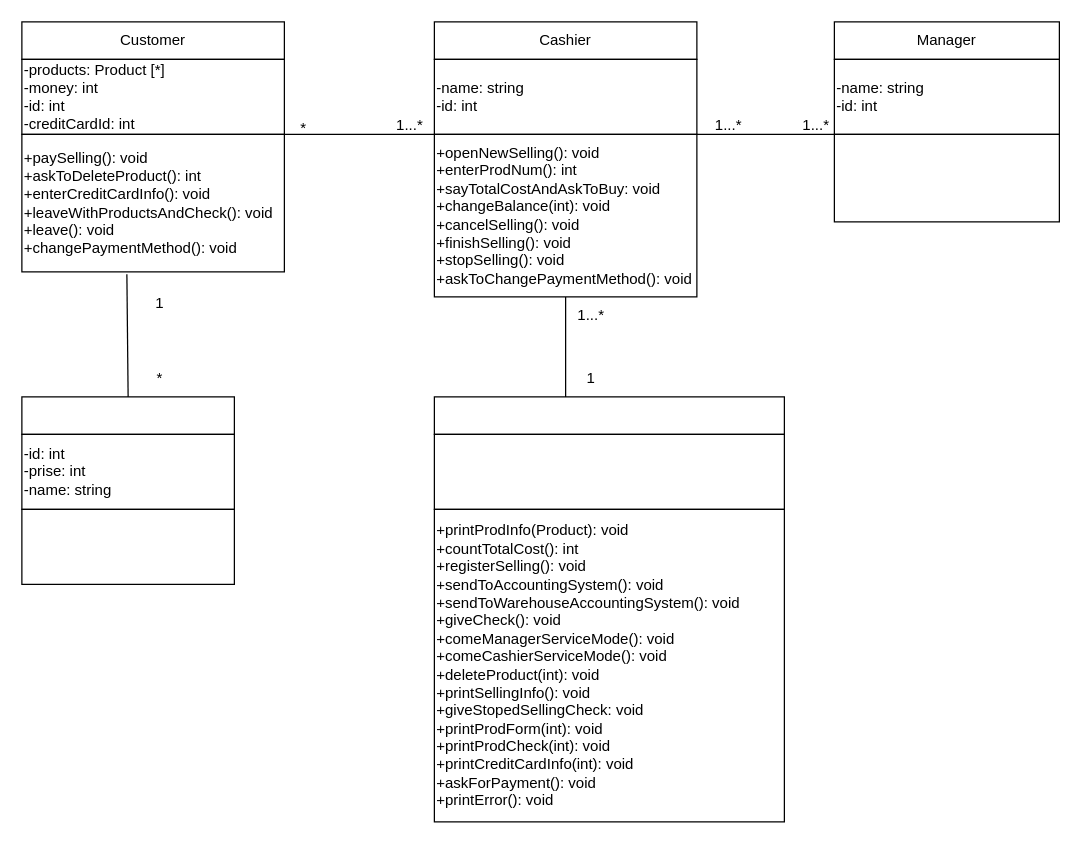
The diagram is 1081 pixels wide and 844 high, and some of its shapes have lost their labels. The centre of each missing label's shape, as x and y in pixels:
"+cancelOperation(): void +changeBalance( ): int +finishSelling(): void" goes at (x=946, y=177).
"-totalCost: int" goes at (x=608, y=471).
"Product" goes at (x=127, y=415).
"System" goes at (x=608, y=415).
